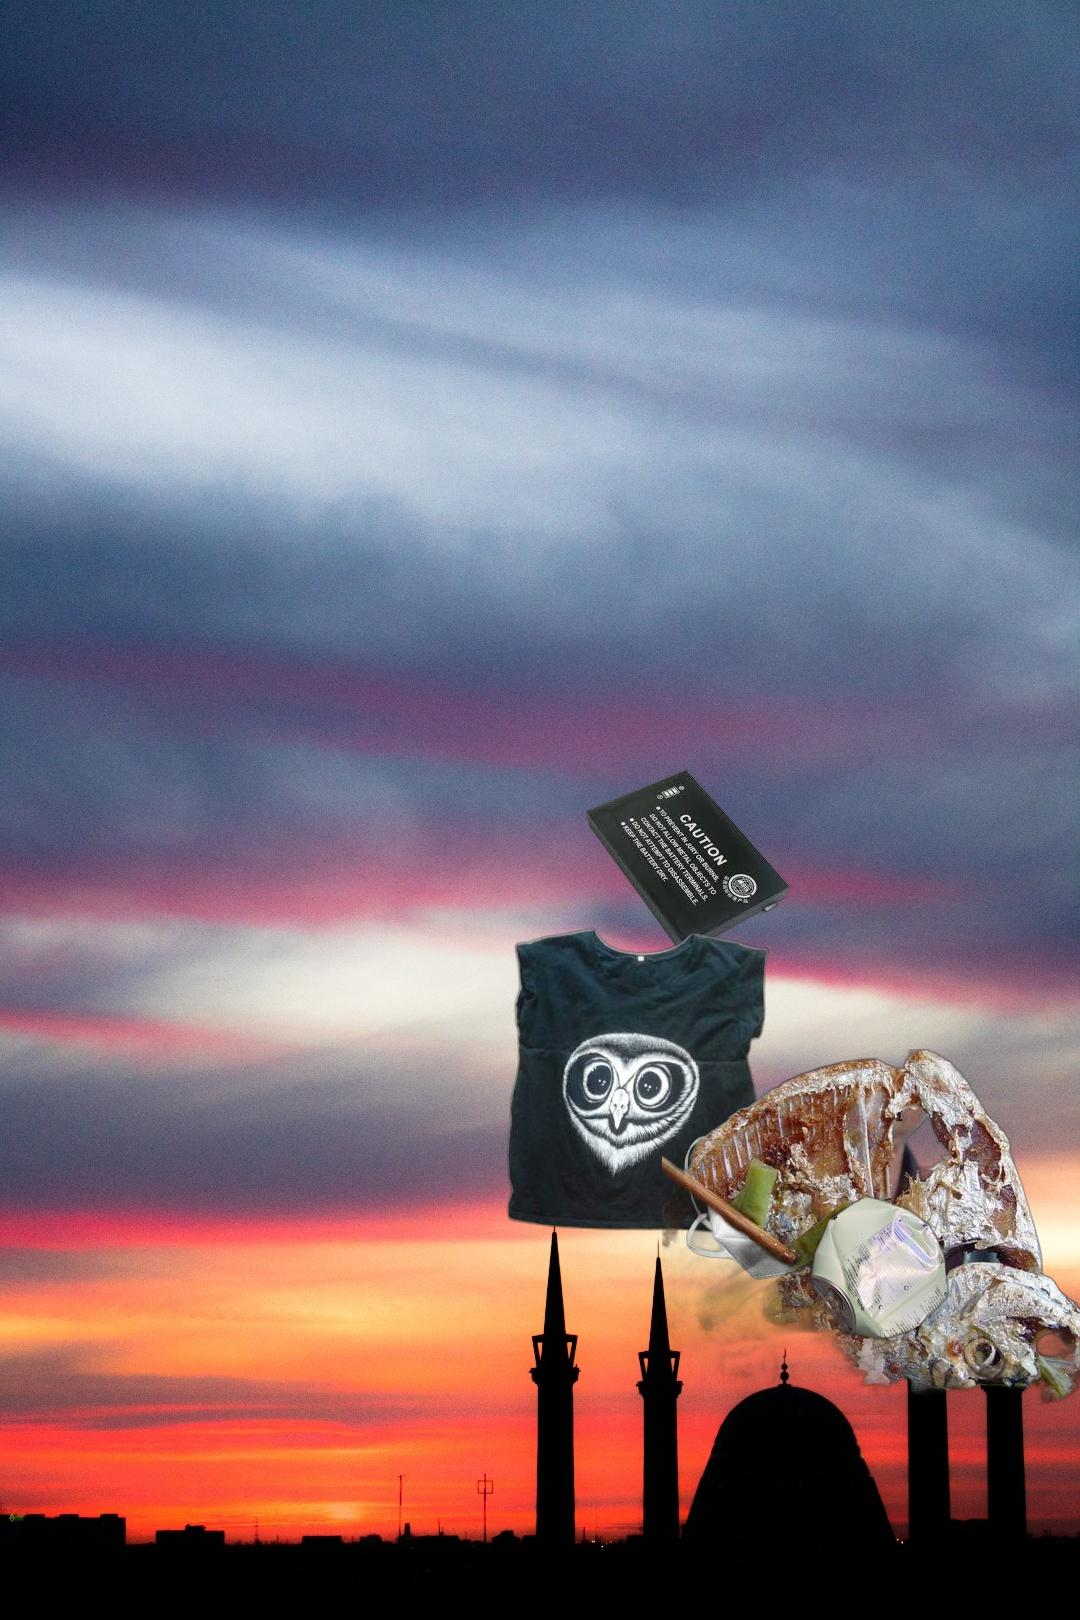battery: (585, 767, 793, 957)
biological: (662, 1049, 1080, 1415)
clothes: (504, 925, 771, 1237)
metal-cans: (806, 1190, 952, 1344)
trash: (681, 1098, 885, 1285)
